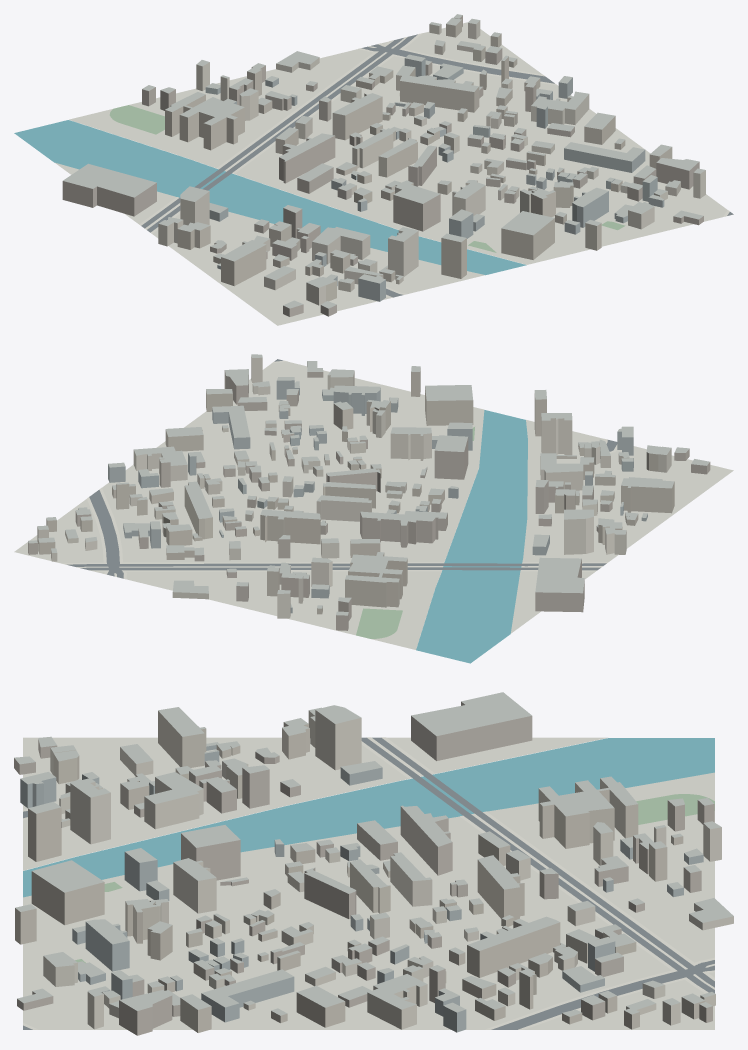
3 views of the same model, one above another, from view 1: azimuth 30°, elevation 25°; view 2: azimuth 150°, elevation 25°; view 3: azimuth 270°, elevation 25° (orthographic). The views are drawn at different scales.
Parts seen in each view (by area): view 1: city; view 2: city; view 3: city.
Boxes of the visible parts, <box> form: city: <box>14,14,733,325</box>; city: <box>14,354,733,663</box>; city: <box>14,692,733,1035</box>.
Size of the model in its own units: 545 by 38.68 by 520.
